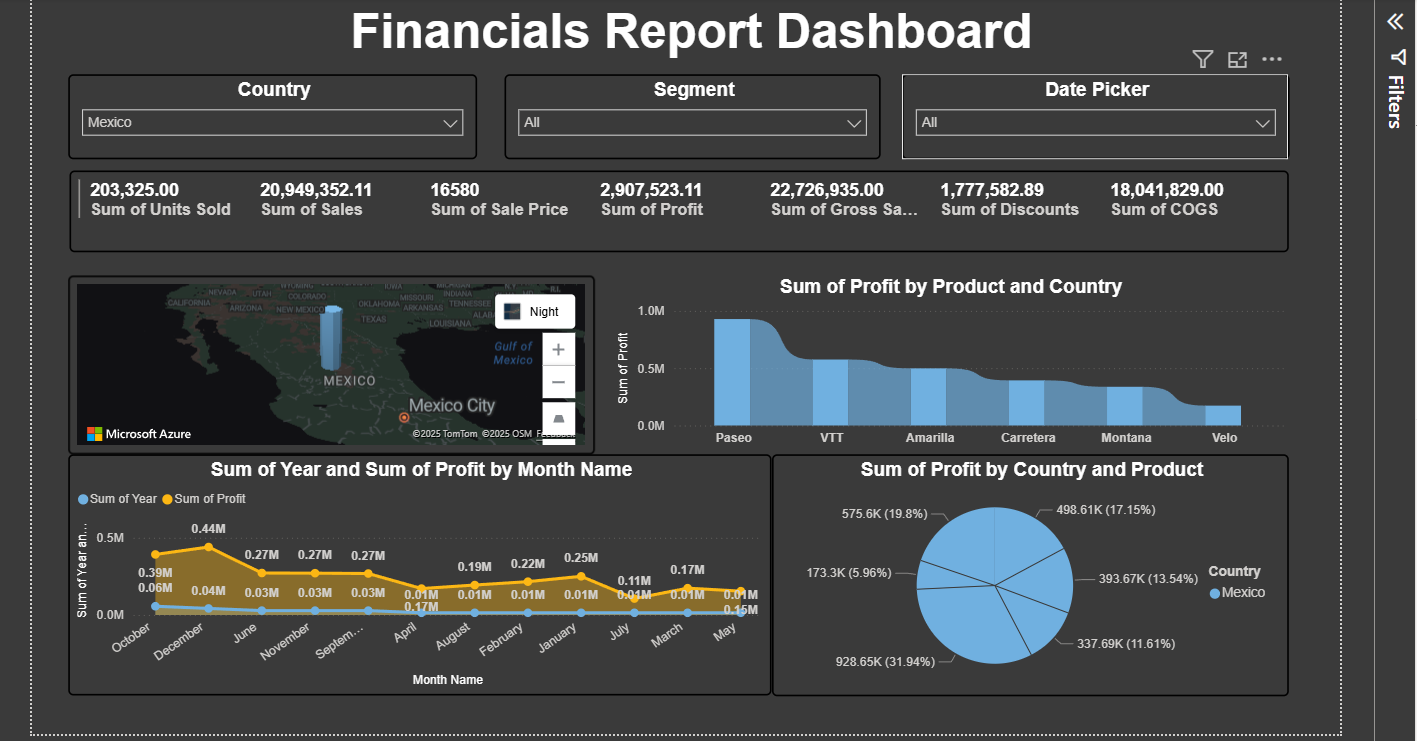

Layout of this report page (visuals, bound fields, positions):
{"tool":"powerbi","page":{"name":"Page 1","canvas":[1280,720],"ordinal":0},"visuals":[{"type":"textbox","box":[9.7,0,1270.4,74.8],"z":0},{"type":"slicer","title":"Country","fields":{"Values":["financials.Country"]},"box":[35.5,74.6,399.9,83.2],"z":1000},{"type":"slicer","title":"Segment","fields":{"Values":["financials.Segment"]},"box":[462.1,74.8,368,83.2],"z":2000},{"type":"slicer","title":"Date Picker","fields":{"Values":["financials.Date"]},"box":[850.5,74.8,378.8,83.2],"z":3000},{"type":"multiRowCard","fields":{"Values":["Sum(financials.Units Sold)","Sum(financials.Sales)","Sum(financials.Sale Price)","Sum(financials.Profit)","Sum(financials.Gross Sales)","Sum(financials.Discounts)","Sum(financials.COGS)"]},"box":[36.2,168.9,1193.2,79.6],"z":4000},{"type":"ribbonChart","fields":{"Category":["financials.Product"],"Y":["Sum(financials.Profit)"],"Series":["financials.Country"]},"box":[568.2,271.4,661.1,174.9],"z":5000},{"type":"pieChart","fields":{"Category":["financials.Country"],"Series":["financials.Product"],"Y":["Sum(financials.Profit)"]},"box":[723.9,446.4,505.5,236.5],"z":6000},{"type":"areaChart","fields":{"Y":["Sum(financials.Year)","Sum(financials.Profit)"],"Category":["financials.Month Name"]},"box":[36,446,688,236],"z":7000},{"type":"azureMap","fields":{"Category":["financials.Country"],"Size":["Sum(financials.Units Sold)"]},"box":[36,271,515,175],"z":8000}]}

Visuals, with their boxes on the page's 1280x720 design canvas (x1, y1, x2, y2). These are canvas units, not pixel positions in the 1417x741 screenshot, which may show the page scaled, cropped or inside an application window:
textbox: [left=10, top=0, right=1280, bottom=75]
"Country" slicer: [left=36, top=75, right=435, bottom=158]
"Segment" slicer: [left=462, top=75, right=830, bottom=158]
"Date Picker" slicer: [left=850, top=75, right=1229, bottom=158]
multiRowCard - Sum(financials.Units Sold) x Sum(financials.Sales): [left=36, top=169, right=1229, bottom=248]
ribbonChart - financials.Product x Sum(financials.Profit): [left=568, top=271, right=1229, bottom=446]
pieChart - financials.Country x financials.Product: [left=724, top=446, right=1229, bottom=683]
areaChart - Sum(financials.Year) x Sum(financials.Profit): [left=36, top=446, right=724, bottom=682]
azureMap - financials.Country x Sum(financials.Units Sold): [left=36, top=271, right=551, bottom=446]
